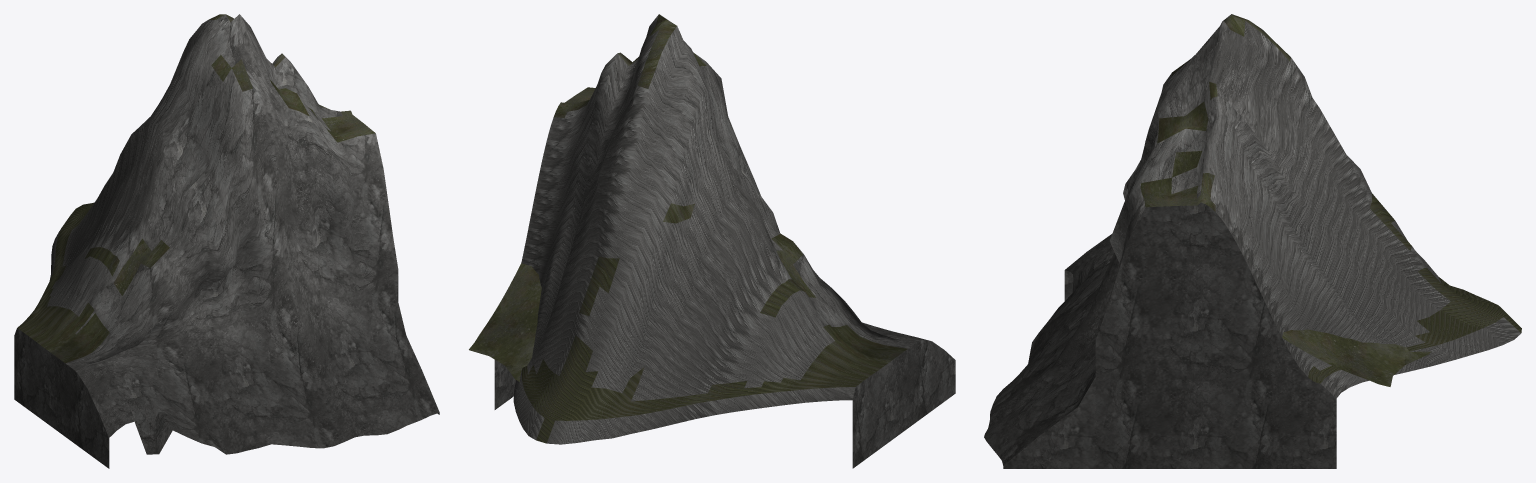
File: seacliff_endcap_left_h3_a_v5_summer.glb
3 views of the same model, side by side, from view 1: azimuth 30°, elevation 25°; view 2: azimuth 150°, elevation 25°; view 3: azimuth 270°, elevation 25° (orthographic). The views are drawn at different scales.
Visible parts, largest first — view 1: seacliff_endcap_left_h3_a; view 2: seacliff_endcap_left_h3_a; view 3: seacliff_endcap_left_h3_a.
Boxes of the visible parts, box(x1,y1,x2,y2) form: seacliff_endcap_left_h3_a: box(14, 14, 439, 468); seacliff_endcap_left_h3_a: box(469, 14, 955, 468); seacliff_endcap_left_h3_a: box(984, 14, 1521, 468).
Size of the model in its own units: 6 by 6.69 by 8.29.
2 materials, 2 textured.
